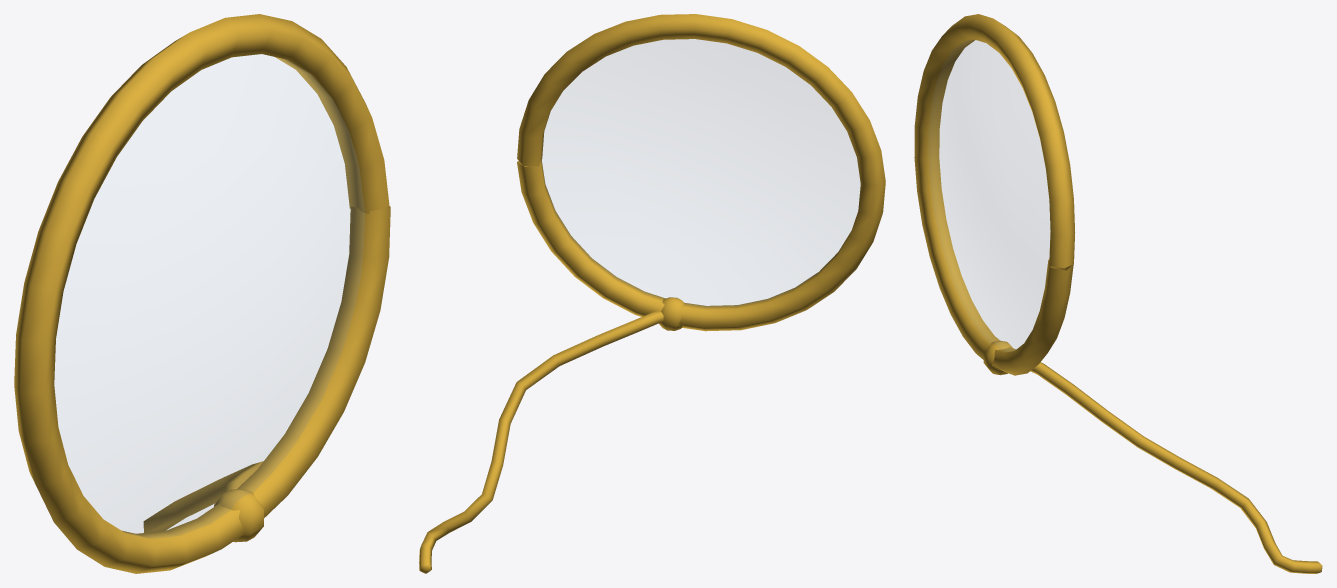
File: acc_monocle.glb
3 views of the same model, side by side, from view 1: azimuth 30°, elevation 25°; view 2: azimuth 150°, elevation 25°; view 3: azimuth 270°, elevation 25° (orthographic). The views are drawn at different scales.
Visible parts, largest first — view 1: AccMonocle; view 2: AccMonocle; view 3: AccMonocle.
Boxes of the visible parts, x1=… form: AccMonocle: x1=14, y1=14, x2=390, y2=573; AccMonocle: x1=419, y1=14, x2=885, y2=573; AccMonocle: x1=914, y1=14, x2=1322, y2=573.
Size of the model in its own units: 0.2199 by 0.3351 by 0.255.
